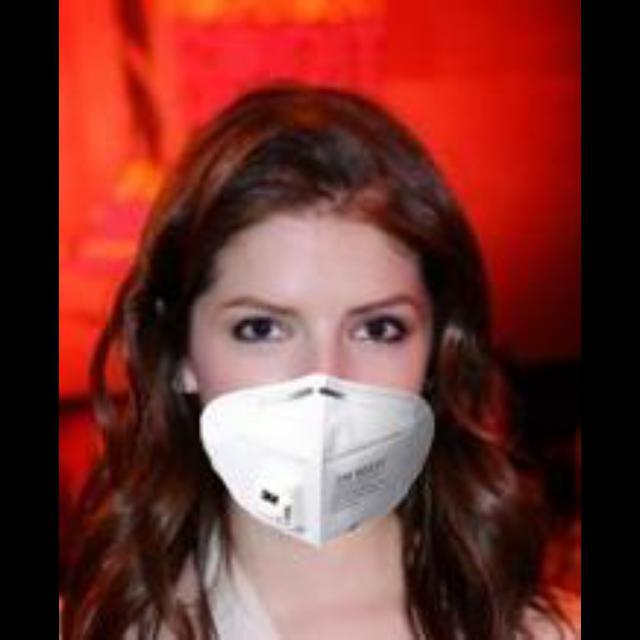suspicion: (132, 129, 456, 581)
